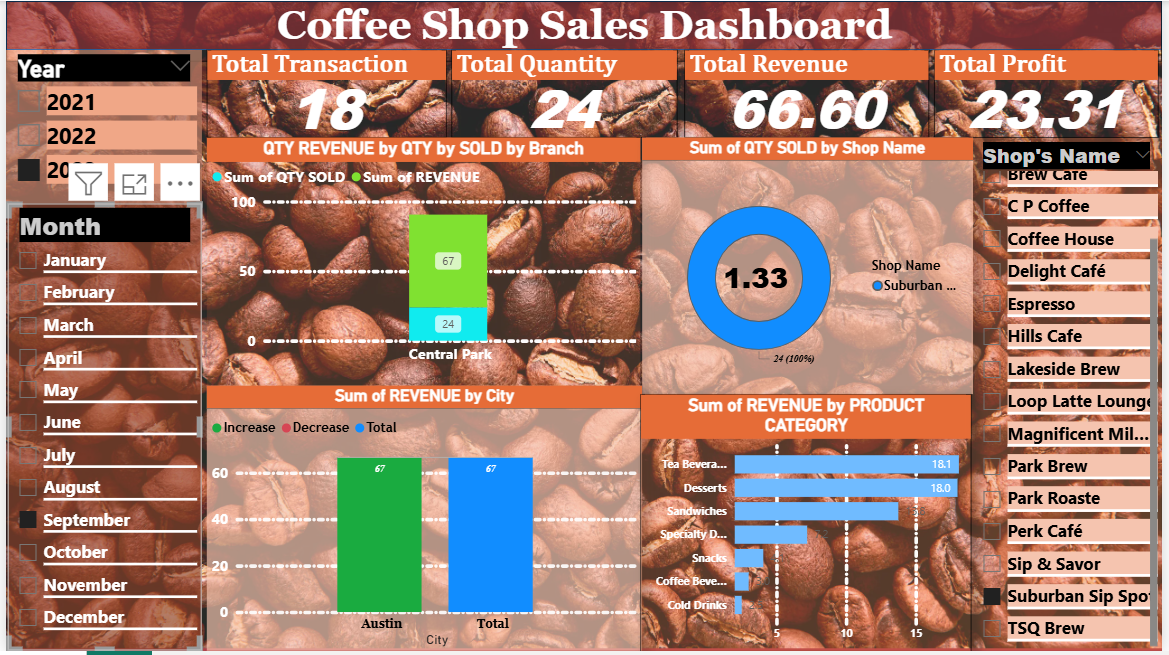

The page's visual inventory and layout, read from the dashboard file:
{"tool":"powerbi","page":{"name":"Page 1","canvas":[1280,720],"ordinal":0},"visuals":[{"type":"shape","box":[0,0,1279.6,54.2],"z":0},{"type":"textbox","title":"Coffee Shop Sales Dashboard","box":[0,0,1279.6,67.2],"z":1000},{"type":"shape","box":[0,67.2,216.7,651.9],"z":2000},{"type":"card","title":"Total Transaction","fields":{"Values":["select","CountNonNull(Sheet1.TRANSACTION ID)"]},"box":[222.3,54.2,265.3,97.1],"z":3000},{"type":"card","title":"Total Quantity","fields":{"Values":["select","Sum(Sheet1.QTY SOLD)"]},"box":[493.2,54.2,250.3,97.1],"z":4000},{"type":"card","title":"Total Revenue","fields":{"Values":["select","Sum(Sheet1.REVENUE)"]},"box":[750.9,54.2,270.9,97.1],"z":5000},{"type":"card","title":"Total Profit","fields":{"Values":["select","Sum(Sheet1.PROFIT MARGIN)"]},"box":[1027.4,54.2,248.4,97.1],"z":6000},{"type":"slicer","fields":{"Values":["Sheet1.DATE.Variation.Date Hierarchy.Year"]},"box":[0,54.2,216.7,170],"z":7000},{"type":"slicer","fields":{"Values":["Sheet1.DATE.Variation.Date Hierarchy.Month"]},"box":[1.9,224.2,214.8,495],"z":8000},{"type":"slicer","fields":{"Values":["Sheet1.Shop Name"]},"box":[1068.5,151.3,211.1,567.9],"z":9000},{"type":"lineStackedColumnComboChart","title":"QTY REVENUE by QTY by SOLD by Branch","fields":{"Category":["Sheet1.Branch"],"Y":["Sum(Sheet1.QTY SOLD)","Sum(Sheet1.REVENUE)"]},"box":[222.3,151.3,480.1,274.6],"z":10000},{"type":"donutChart","fields":{"Y":["Sum(Sheet1.QTY SOLD)"],"Category":["Sheet1.Shop Name"]},"box":[704.2,151.3,366.1,283.9],"z":11000},{"type":"card","title":"Total Quantity","fields":{"Values":["select","Avg(Sheet1.QTY SOLD)"]},"box":[773.5,238.9,113.5,136],"z":12000},{"type":"waterfallChart","fields":{"Y":["Sum(Sheet1.REVENUE)"],"Category":["Sheet1.City"]},"box":[222.3,425.9,481.9,293.3],"z":13000},{"type":"clusteredBarChart","fields":{"Category":["Sheet1.PRODUCT CATEGORY"],"Y":["Sum(Sheet1.REVENUE)"]},"box":[702.4,435.2,366.1,285],"z":14000}]}

Visuals, with their boxes in screenshot pixels (x1, y1, x2, y2), scaled from the page's 1280x720 canvas onto the 1169x655 screenshot:
shape: [0, 0, 1168, 49]
"Coffee Shop Sales Dashboard" textbox: [0, 0, 1168, 61]
shape: [0, 61, 198, 654]
"Total Transaction" card: [203, 49, 445, 138]
"Total Quantity" card: [450, 49, 679, 138]
"Total Revenue" card: [686, 49, 933, 138]
"Total Profit" card: [938, 49, 1165, 138]
slicer - Sheet1.DATE.Variation.Date Hierarchy.Year: [0, 49, 198, 204]
slicer - Sheet1.DATE.Variation.Date Hierarchy.Month: [2, 204, 198, 654]
slicer - Sheet1.Shop Name: [976, 138, 1168, 654]
"QTY REVENUE by QTY by SOLD by Branch" lineStackedColumnComboChart: [203, 138, 641, 387]
donutChart - Sum(Sheet1.QTY SOLD) x Sheet1.Shop Name: [643, 138, 977, 396]
"Total Quantity" card: [706, 217, 810, 341]
waterfallChart - Sum(Sheet1.REVENUE) x Sheet1.City: [203, 387, 643, 654]
clusteredBarChart - Sheet1.PRODUCT CATEGORY x Sum(Sheet1.REVENUE): [641, 396, 976, 654]
